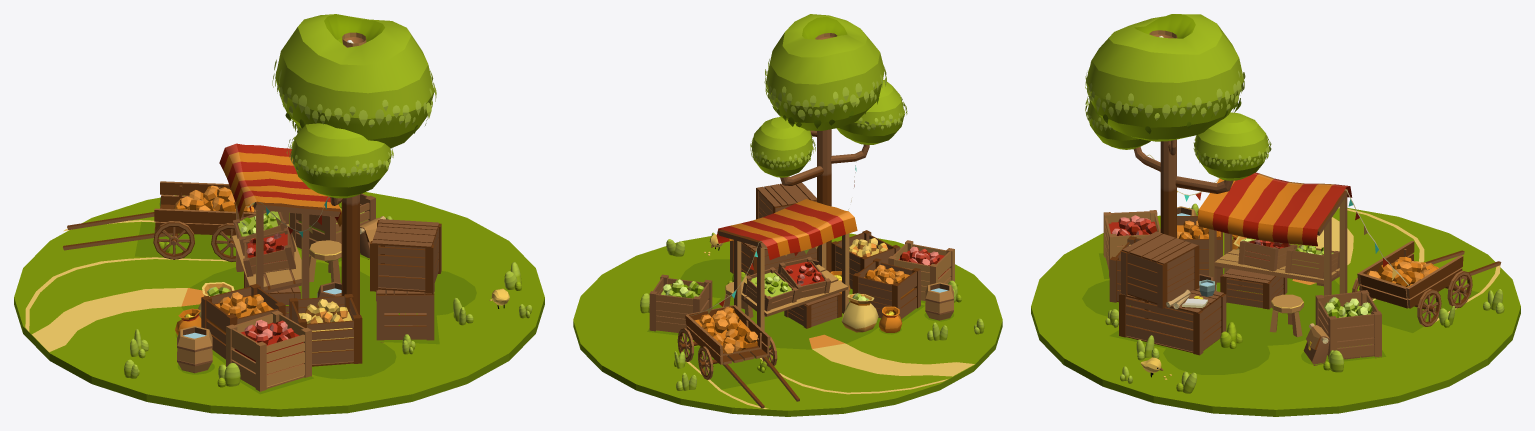
File: Marketplace.fbx
3 renders of one model, left to right at view 1: azimuth 30°, elevation 25°; view 2: azimuth 150°, elevation 25°; view 3: azimuth 270°, elevation 25°, orthographic. The views are drawn at different scales.
Visible parts, largest first — view 1: pDisc8, polySurface487, polySurface164, S_FruitCart_02:polySurface1, S_FruitCrate_01:polySurface1, S_CrateSmall:polySurface1, S_FruitCrate_03:polySurface1, pDisc11, S_CrateLardge:polySurface1, S_FruitCrate_04:polySurface1, polySurface555, pDisc5 (+11 smaller); view 2: pDisc8, polySurface487, polySurface164, S_FruitCart_02:polySurface1, S_FruitCrate_04:polySurface1, S_FruitCrate_02:polySurface1, pDisc11, pDisc2, S_FruitCrate_01:polySurface1, S_FruitCrate_03:polySurface1, pPlane3, polySurface555 (+9 smaller); view 3: pDisc8, polySurface487, polySurface164, S_FruitCart_02:polySurface1, S_CrateLardge:polySurface1, S_CrateSmall:polySurface1, S_FruitCrate_02:polySurface1, pDisc2, pDisc3, polySurface1, S_FruitCrate_01:polySurface1, pPlane3 (+8 smaller).
Boxes of the visible parts, x1,y1,x2,y2 form: pDisc8: [14, 192, 544, 416]; polySurface487: [272, 14, 436, 314]; polySurface164: [219, 143, 341, 298]; S_FruitCart_02:polySurface1: [63, 181, 255, 261]; S_FruitCrate_01:polySurface1: [226, 310, 311, 391]; S_CrateSmall:polySurface1: [370, 219, 441, 294]; S_FruitCrate_03:polySurface1: [289, 294, 362, 366]; pDisc11: [32, 288, 204, 352]; S_CrateLardge:polySurface1: [376, 289, 434, 342]; S_FruitCrate_04:polySurface1: [201, 284, 285, 359]; polySurface555: [243, 228, 295, 276]; pDisc5: [312, 336, 396, 379]; pDisc8: [573, 233, 1002, 416]; polySurface487: [750, 14, 907, 272]; polySurface164: [716, 199, 857, 330]; S_FruitCart_02:polySurface1: [677, 305, 799, 408]; S_FruitCrate_04:polySurface1: [852, 258, 920, 318]; S_FruitCrate_02:polySurface1: [649, 274, 712, 333]; pDisc11: [809, 334, 974, 376]; pDisc2: [712, 292, 879, 349]; S_FruitCrate_01:polySurface1: [888, 240, 954, 300]; S_FruitCrate_03:polySurface1: [831, 230, 900, 289]; pPlane3: [678, 346, 777, 389]; polySurface555: [778, 256, 830, 299]; pDisc8: [1031, 208, 1520, 416]; polySurface487: [1085, 14, 1271, 238]; polySurface164: [1197, 172, 1352, 295]; S_FruitCart_02:polySurface1: [1352, 241, 1501, 326]; S_CrateLardge:polySurface1: [1119, 287, 1226, 355]; S_CrateSmall:polySurface1: [1121, 231, 1199, 308]; S_FruitCrate_02:polySurface1: [1315, 290, 1381, 359]; pDisc2: [1216, 278, 1339, 345]; pDisc3: [1163, 333, 1269, 374]; polySurface1: [1220, 268, 1287, 309]; S_FruitCrate_01:polySurface1: [1103, 210, 1160, 277]; pPlane3: [1373, 288, 1478, 332].
Bounding box in the file's own units: 1804 × 1213 × 1800.
